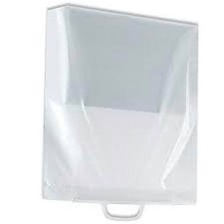plastic_bag: (34, 1, 208, 223)
